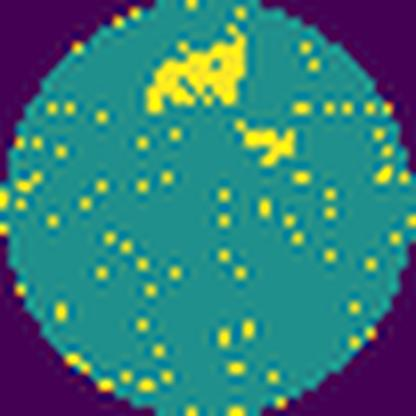Loc: (142, 23, 250, 115), (234, 119, 300, 168)
